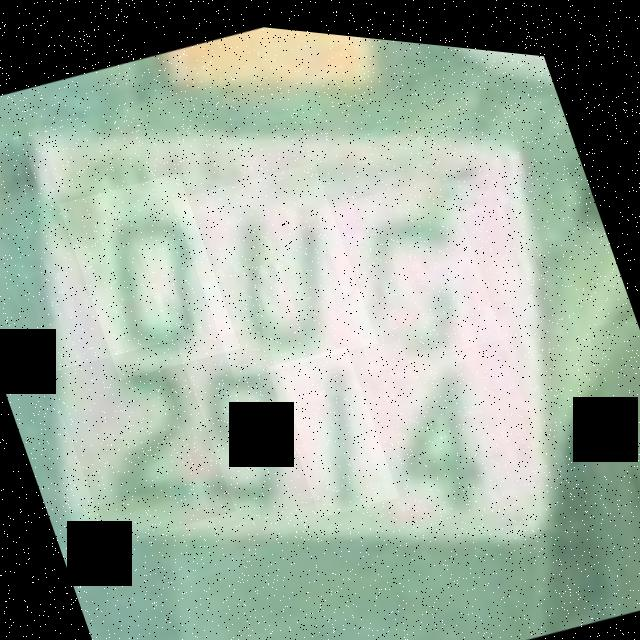1: (268, 332, 400, 518)
2: (48, 325, 236, 553)
4: (338, 302, 532, 538)
9: (156, 312, 323, 532)
C: (314, 155, 503, 375)
O: (58, 159, 240, 387)
U: (172, 144, 378, 387)
